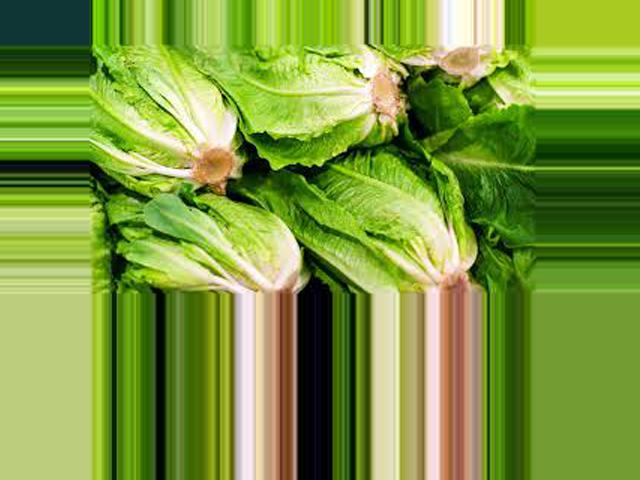lettuce: (432, 104, 538, 208)
